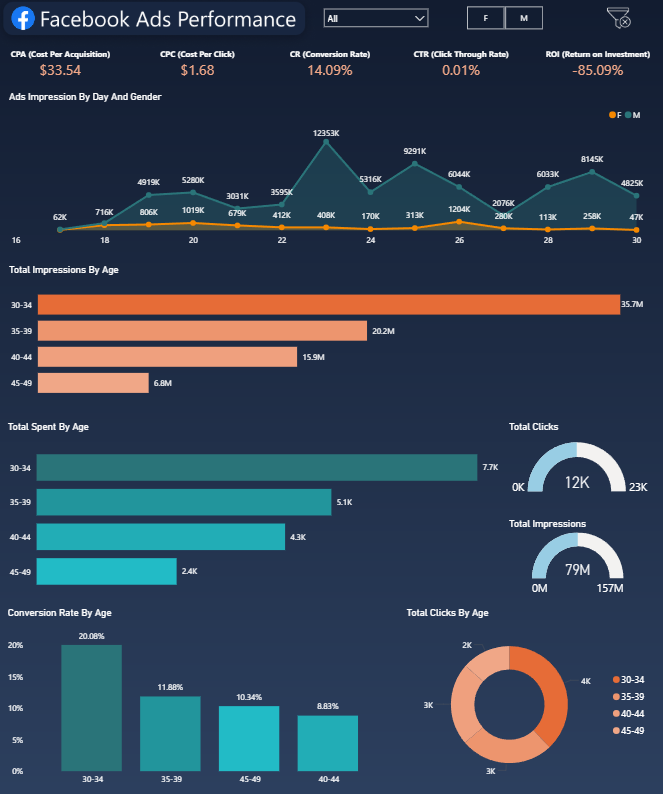

This screenshot's page, from the dashboard's own definition file:
{"tool":"powerbi","page":{"name":"Page 1","canvas":[1000,1200],"ordinal":0},"visuals":[{"type":"card","title":"CPA (Cost Per Acquisition)","fields":{"Values":["data.CPA"]},"box":[19.8,77.8,163,53.1],"z":0},{"type":"card","title":"CPC (Cost Per Click)","fields":{"Values":["data.CPC"]},"box":[218.5,77.8,176.5,53.1],"z":1000},{"type":"card","title":"CR (Conversion Rate)","fields":{"Values":["data.CR"]},"box":[419.8,77.8,165.4,53.1],"z":2000},{"type":"card","title":"CTR (Click Through Rate)","fields":{"Values":["data.CTR"]},"box":[614.8,77.8,169.1,53.1],"z":3000},{"type":"card","title":"ROI (Return on Investment)","fields":{"Values":["data.ROI"]},"box":[818.5,77.8,166.7,53.1],"z":4000},{"type":"slicer","fields":{"Values":["data.campaign_id"]},"box":[484,12.3,175.3,45.7],"z":5000},{"type":"slicer","fields":{"Values":["data.gender"]},"box":[681.5,12.3,163,48.1],"z":6000},{"type":"areaChart","title":"Ads Impression By Day And Gender","fields":{"Y":["Sum(data.impressions)"],"Category":["data.reporting_end.Variation.Date Hierarchy.Day"],"Series":["data.gender"]},"box":[21,145.7,954.3,242],"z":7000},{"type":"gauge","title":"Total Clicks","fields":{"Y":["Sum(data.clicks)"]},"box":[772.3,636.5,219.6,126.6],"z":8000},{"type":"gauge","title":"Total Impressions","fields":{"Y":["Sum(data.impressions)"]},"box":[777.9,781.6,214,126.6],"z":9000},{"type":"clusteredBarChart","title":"Total Impressions By Age","fields":{"Category":["data.age"],"Y":["Sum(data.impressions)"]},"box":[21,403.7,954.3,213.6],"z":10000},{"type":"lineStackedColumnComboChart","title":"Conversion Rate By Age","fields":{"Category":["data.age"],"Y":["data.CR"]},"box":[19.1,913.2,582.4,275],"z":11000},{"type":"donutChart","title":"Total Clicks By Age","fields":{"Y":["Sum(data.clicks)"],"Category":["data.age"]},"box":[611.8,914.7,373.5,275],"z":12000},{"type":"clusteredBarChart","title":"Total Spent By Age","fields":{"Category":["data.age"],"Y":["Sum(data.spent)"]},"box":[19.1,636.8,745.6,272.1],"z":13000},{"type":"shape","box":[880.2,12.3,95.1,48.1],"z":14000}]}

Visuals, with their boxes in screenshot pixels (x1, y1, x2, y2), scaled from the page's 1000x1200 canvas onto the 663x794 screenshot:
"CPA (Cost Per Acquisition)" card: (left=13, top=51, right=121, bottom=87)
"CPC (Cost Per Click)" card: (left=145, top=51, right=262, bottom=87)
"CR (Conversion Rate)" card: (left=278, top=51, right=388, bottom=87)
"CTR (Click Through Rate)" card: (left=408, top=51, right=520, bottom=87)
"ROI (Return on Investment)" card: (left=543, top=51, right=653, bottom=87)
slicer - data.campaign_id: (left=321, top=8, right=437, bottom=38)
slicer - data.gender: (left=452, top=8, right=560, bottom=40)
"Ads Impression By Day And Gender" areaChart: (left=14, top=96, right=647, bottom=257)
"Total Clicks" gauge: (left=512, top=421, right=658, bottom=505)
"Total Impressions" gauge: (left=516, top=517, right=658, bottom=601)
"Total Impressions By Age" clusteredBarChart: (left=14, top=267, right=647, bottom=408)
"Conversion Rate By Age" lineStackedColumnComboChart: (left=13, top=604, right=399, bottom=786)
"Total Clicks By Age" donutChart: (left=406, top=605, right=653, bottom=787)
"Total Spent By Age" clusteredBarChart: (left=13, top=421, right=507, bottom=601)
shape: (left=584, top=8, right=647, bottom=40)
